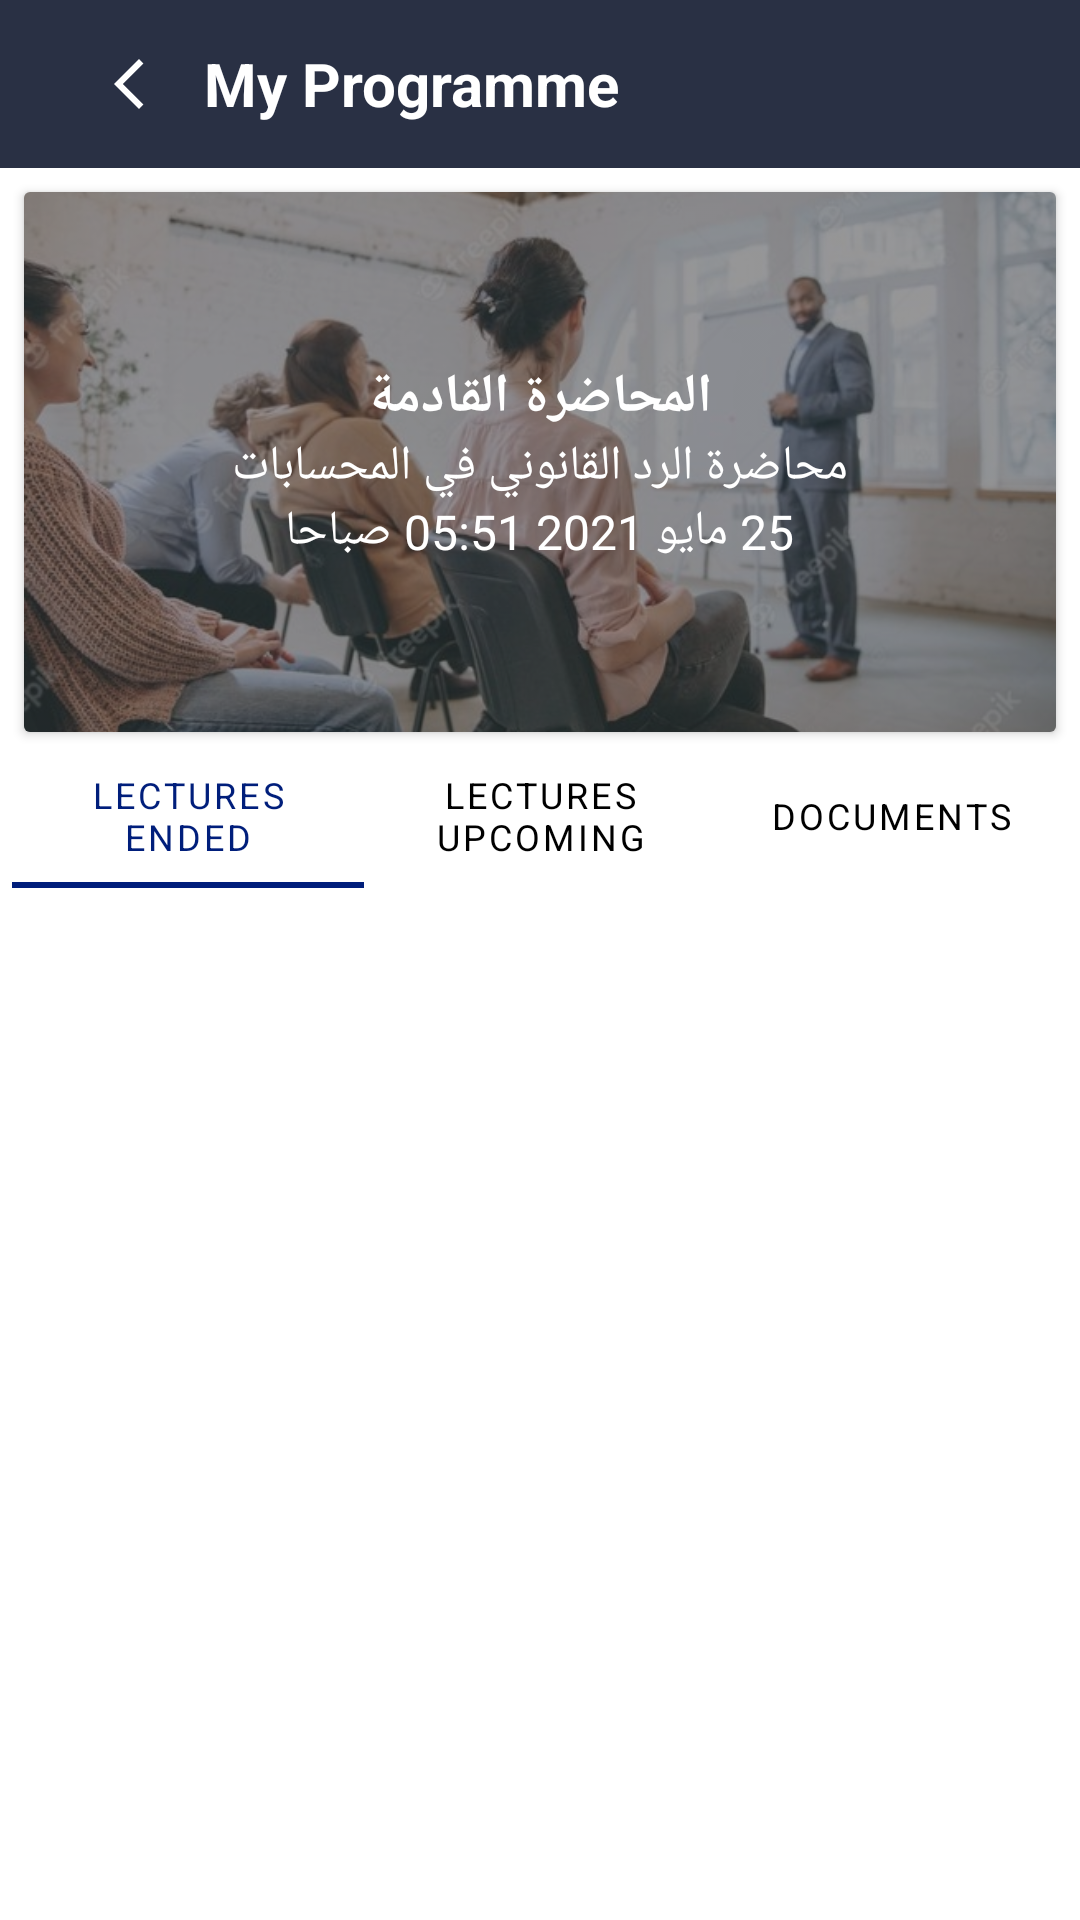

Icon bounding boxes for this 1080w x 1920h phone screenshot, format (x1, y1, x2, y2):
back: (114, 59, 144, 109)
